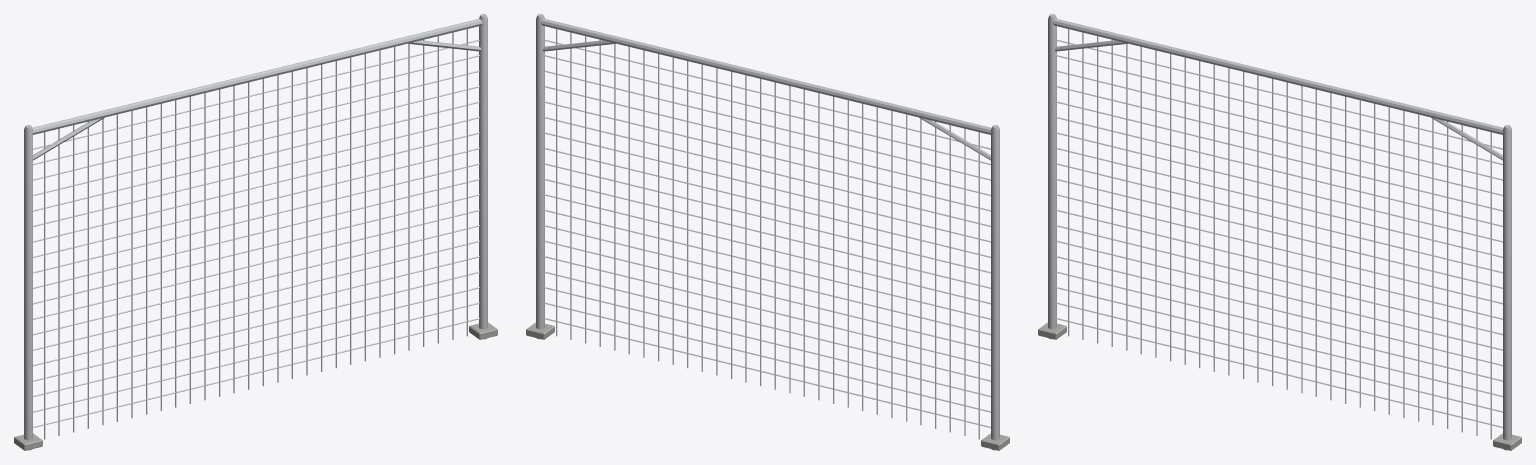
The model's file is japanese-school-and-city-street-backstop-net-frame-1035d378__30076.glb.
3 renders of one model, left to right at view 1: azimuth 30°, elevation 25°; view 2: azimuth 150°, elevation 25°; view 3: azimuth 330°, elevation 25°, orthographic.
Visible parts, largest first — view 1: backstop-net-frame; view 2: backstop-net-frame; view 3: backstop-net-frame.
Part boxes in pixels (<box>): backstop-net-frame: <box>14,14,497,450</box>; backstop-net-frame: <box>526,14,1009,450</box>; backstop-net-frame: <box>1038,14,1521,450</box>.
Bounding box in the file's own units: 6.54 × 4.25 × 0.2603.
2 materials, 1 textured.
